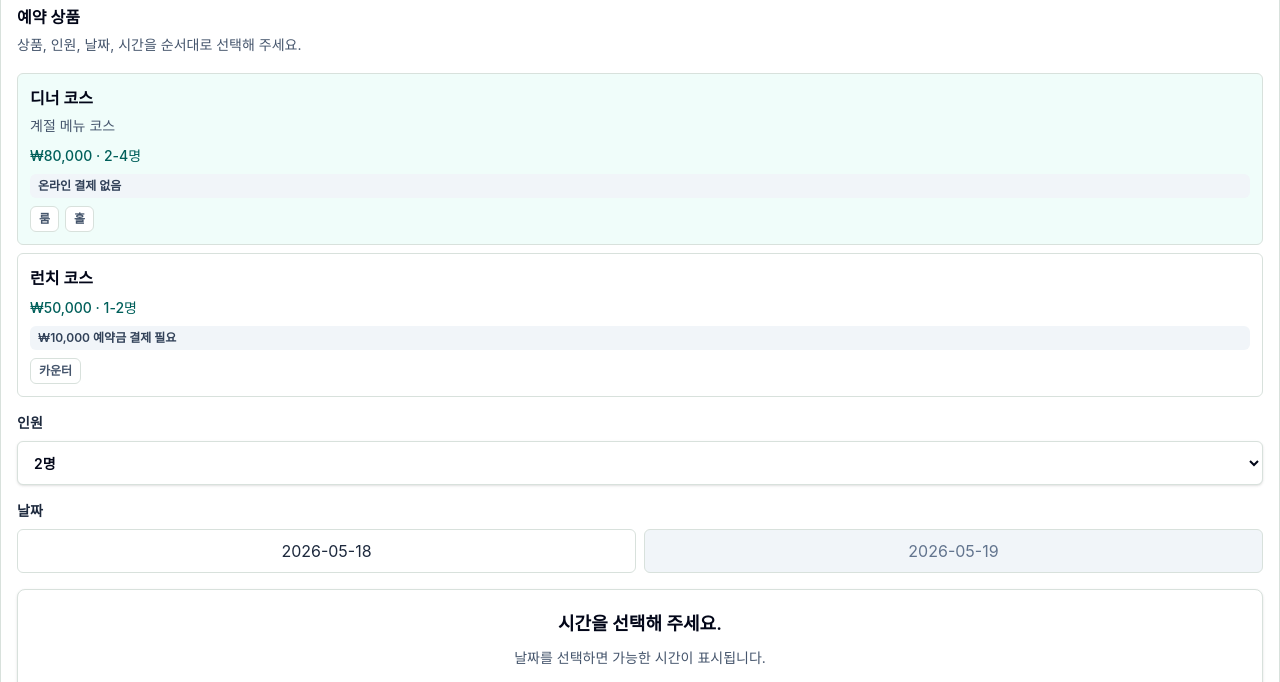
Test: ReservationSelectionPanel › lets customers select only available product, date, party size, and time options
Expected: the dropdown labelled "인원" shows "2명", [17,441,1263,485]
Expected: the button "2026-05-19" is disabled, [644,529,1263,573]
Click the button "2026-05-18".
click(326, 551)  # box [17,529,636,573]
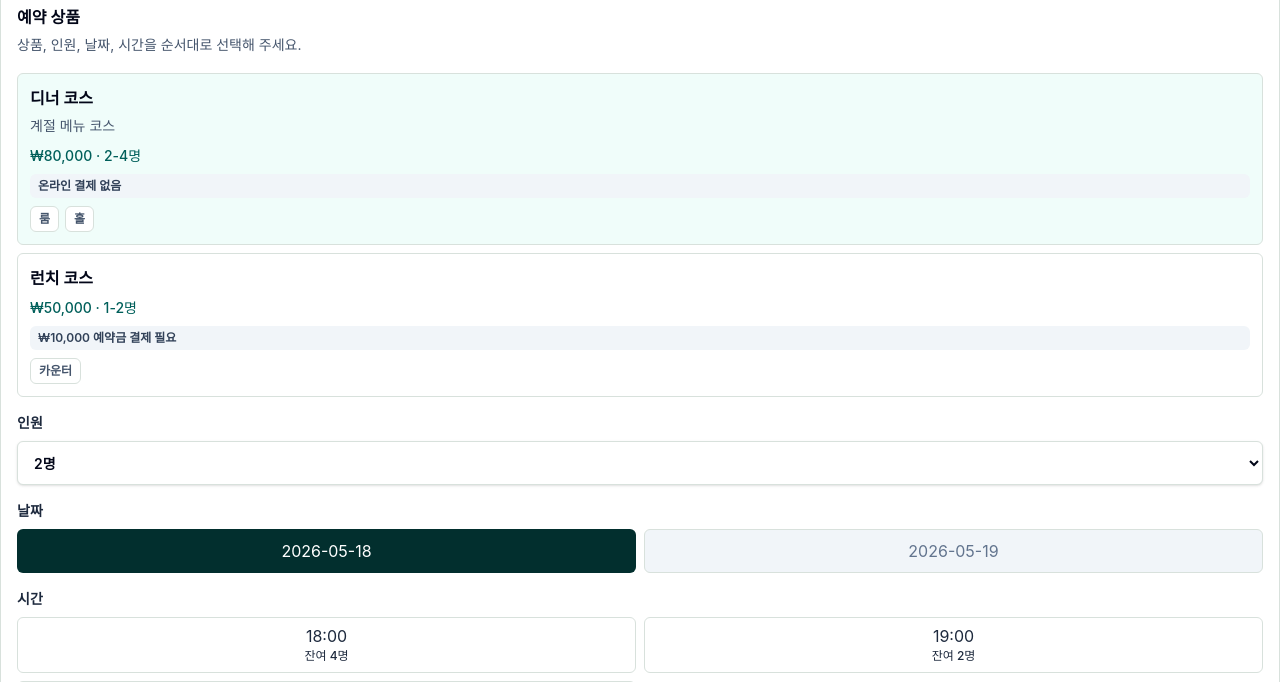
Expected: the text "잔여 4명" is shown, [304,648,349,664]
Click the button "18:00 잔여 4명".
click(326, 645)  # box [17,617,636,673]
(page scrolled)
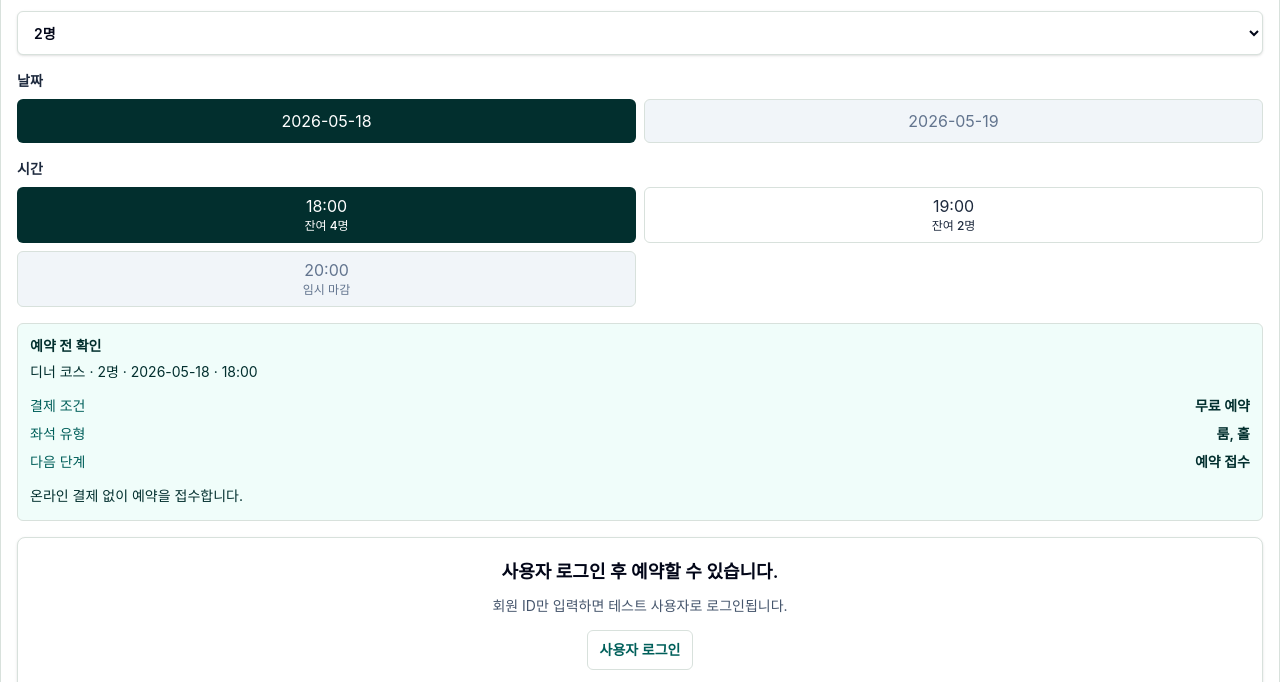
Expected: the text "디너 코스 · 2명 · 2026-05-18 · 18:00" is shown, [30,363,258,380]
Expected: the text "룸, 홀" is shown, [1216,424,1250,444]
